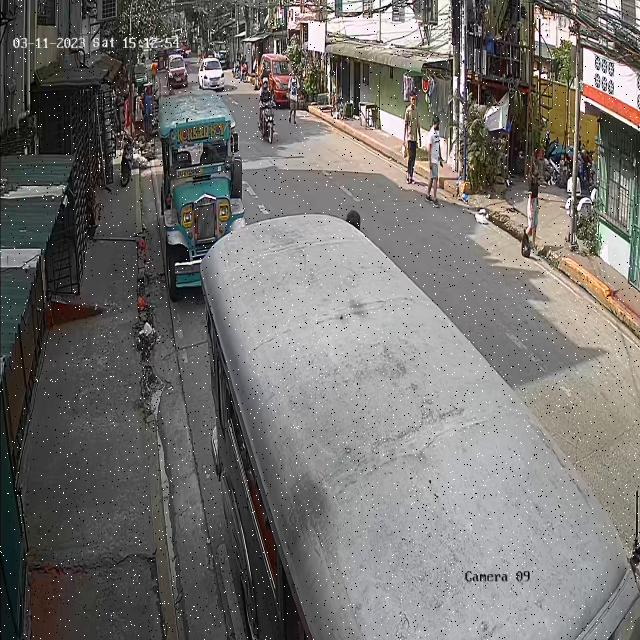garbage_dumping: (520, 228, 532, 260), (402, 143, 407, 159)
